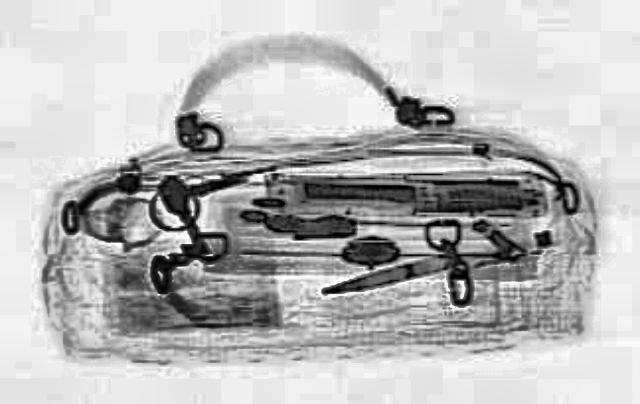Knife: (316, 250, 456, 297)
